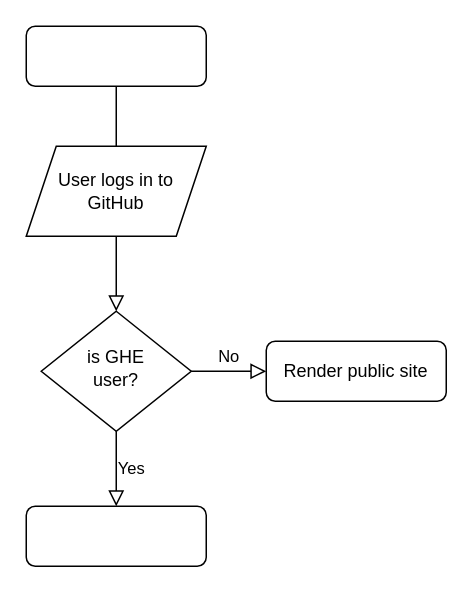
Some shapes in this 473 by 593 pixel diagram are drawn without their labels. Here are the shapes that lost their labels. From the top down, the centre of each, then its label:
At point 115,55: "User requests site".
At point 115,535: "Render site with private content".
